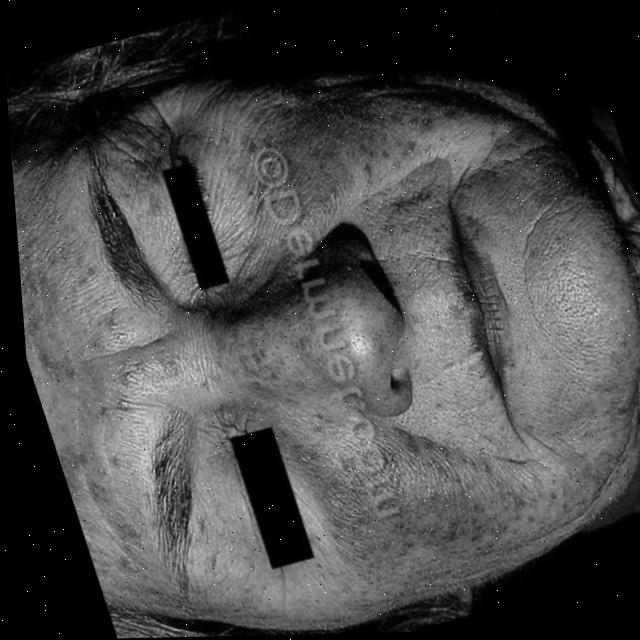Rosacea: (20, 263, 201, 510), (286, 377, 491, 581), (217, 78, 406, 228), (208, 303, 319, 382)
